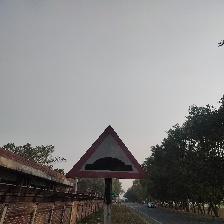Speed-breaker: (64, 126, 152, 181)
